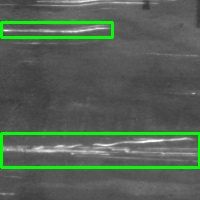scratches: (1, 133, 199, 167), (1, 22, 112, 37)
